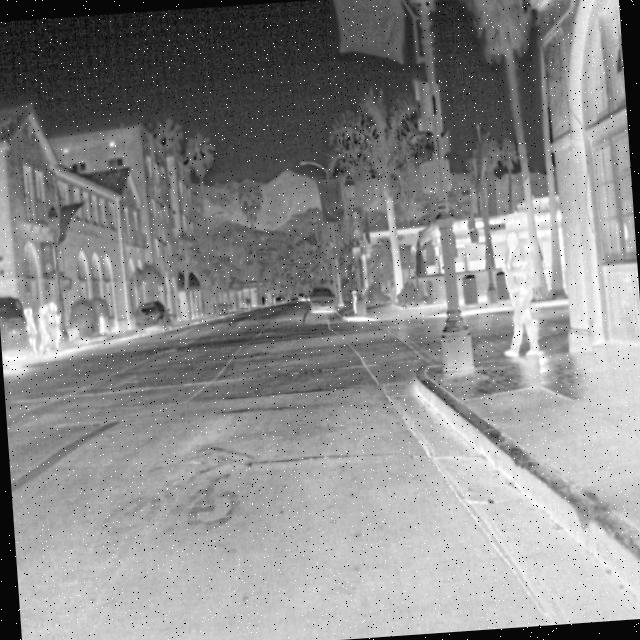Pedestrian: (494, 228, 544, 360), (24, 304, 38, 358), (36, 303, 50, 356)
Vehicle: (133, 298, 172, 334), (307, 284, 339, 316)
